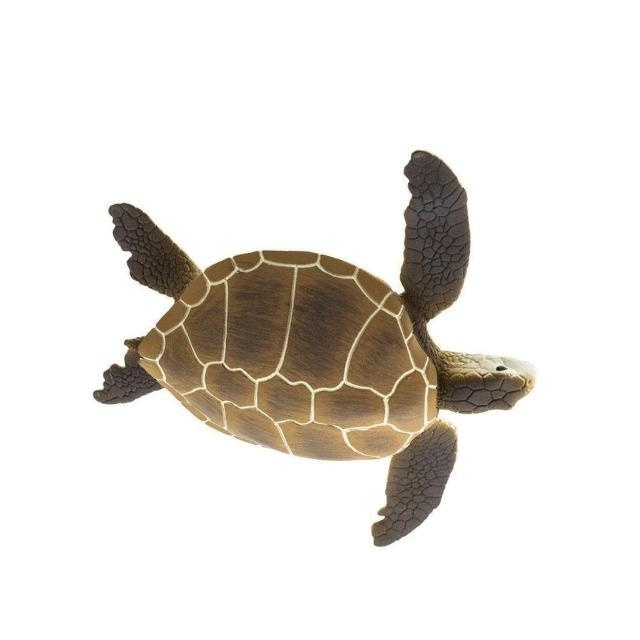turtle: (92, 148, 540, 551)
